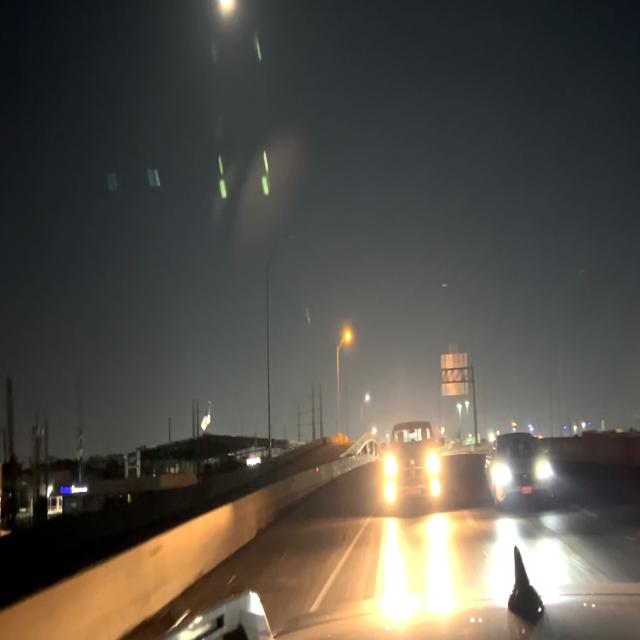back-of-sign: (440, 354, 470, 398)
